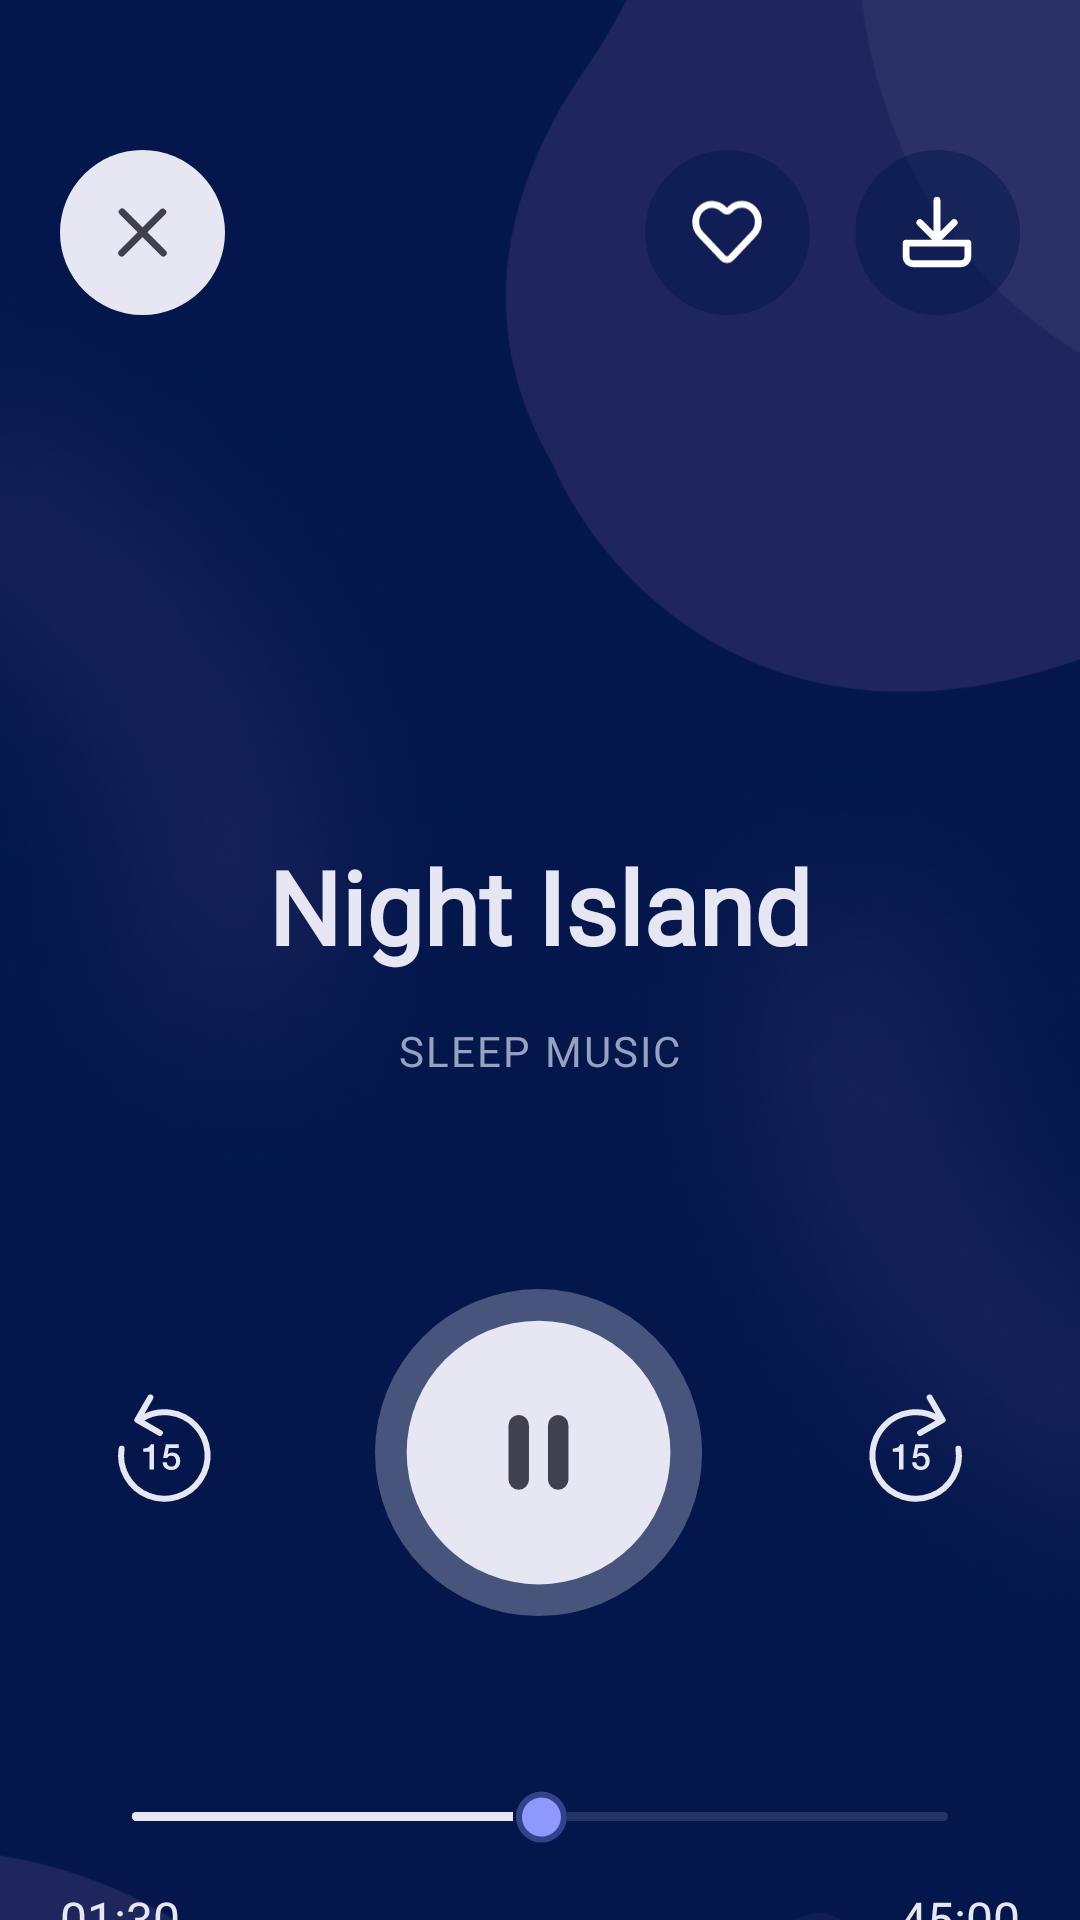

Icons on this 1080×1920 Android screen, each with the point to tap as (x,y):
cross: (142,232)
download: (937,232)
heart: (727,232)
pause theme: (538,1452)
rewind fifteen: (164,1448)
skip fifteen: (915,1448)
